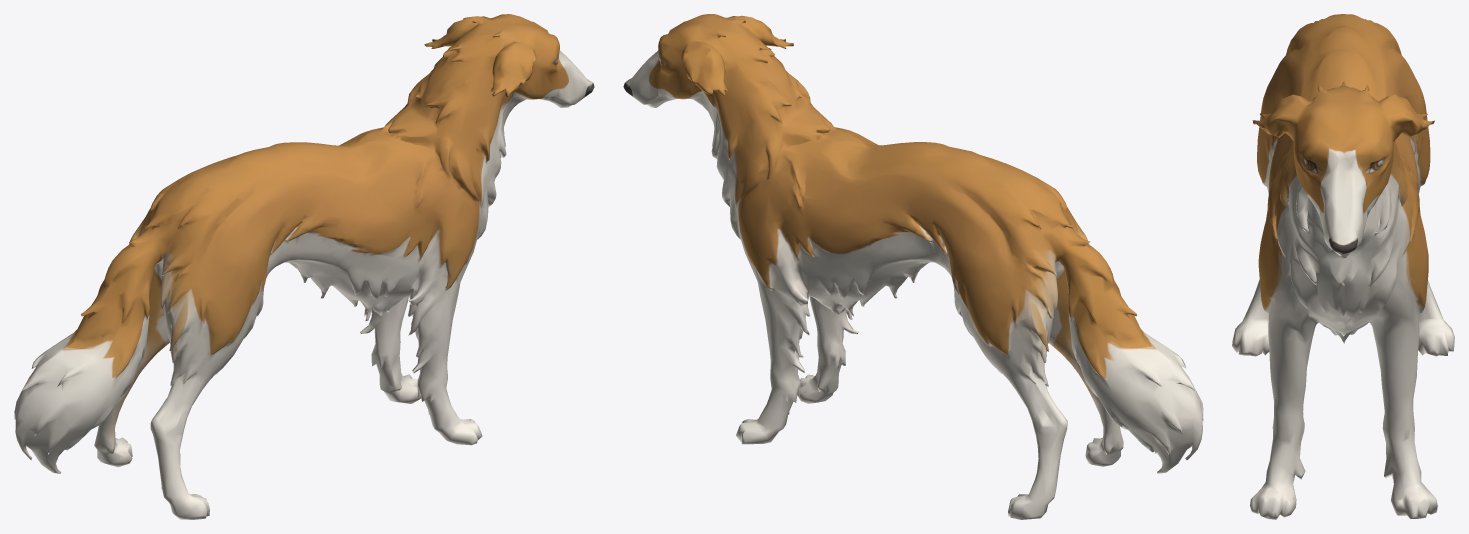
The model's file is rocket.glb.
The picture shows the model from 3 angles, left to right: view 1: azimuth 30°, elevation 25°; view 2: azimuth 150°, elevation 25°; view 3: azimuth 270°, elevation 25°; orthographic projection. The views are drawn at different scales.
Visible parts, largest first — view 1: tripo_node_69f7b2f1-013a-4929-9a9c-42e6ae5c92c0; view 2: tripo_node_69f7b2f1-013a-4929-9a9c-42e6ae5c92c0; view 3: tripo_node_69f7b2f1-013a-4929-9a9c-42e6ae5c92c0.
Part boxes in pixels (bbox=[...]): tripo_node_69f7b2f1-013a-4929-9a9c-42e6ae5c92c0: bbox=[14, 14, 594, 519]; tripo_node_69f7b2f1-013a-4929-9a9c-42e6ae5c92c0: bbox=[623, 14, 1203, 519]; tripo_node_69f7b2f1-013a-4929-9a9c-42e6ae5c92c0: bbox=[1232, 14, 1454, 519].
Bounding box in the file's own units: 0.9992 × 0.6338 × 0.2784.
Materials: 1 (1 with a texture image).
